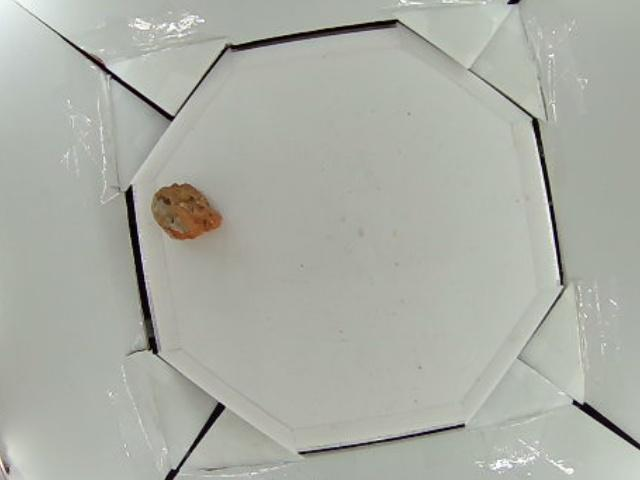Brisk: (155, 182, 219, 243)
